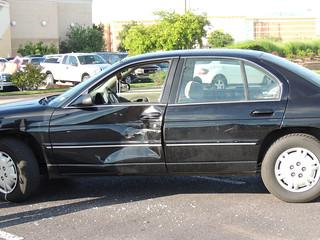doorouter-dent: (59, 69, 167, 165)
